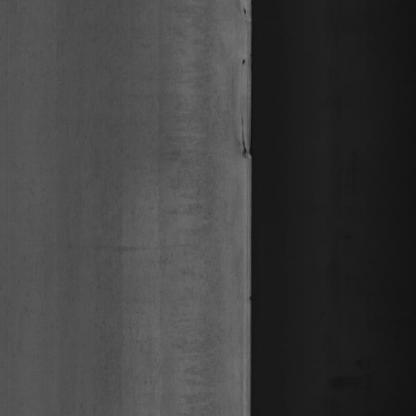inclusion: (232, 117, 250, 178), (237, 46, 249, 74), (240, 1, 250, 17)
